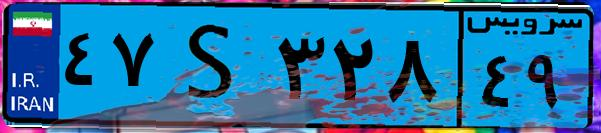2: (330, 28, 385, 110)
3: (270, 28, 330, 110)
4: (57, 26, 110, 100), (475, 38, 525, 113)
7: (110, 28, 158, 98)
8: (385, 28, 445, 110)
9: (525, 38, 570, 115)
S: (158, 12, 270, 120)
